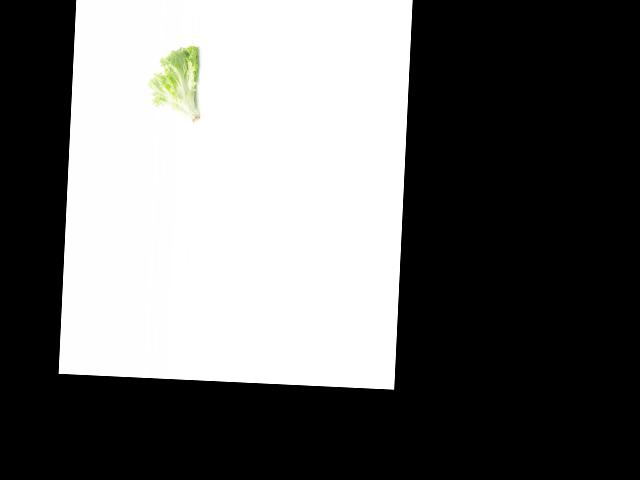lettuce: (146, 44, 204, 124)
